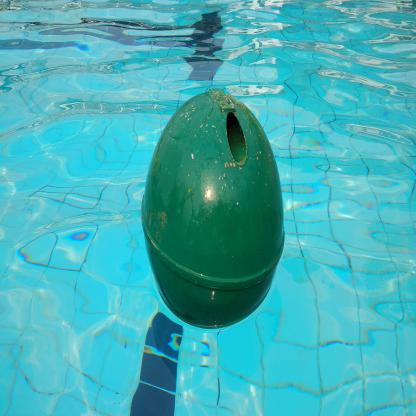green_buoy: (138, 88, 286, 330)
